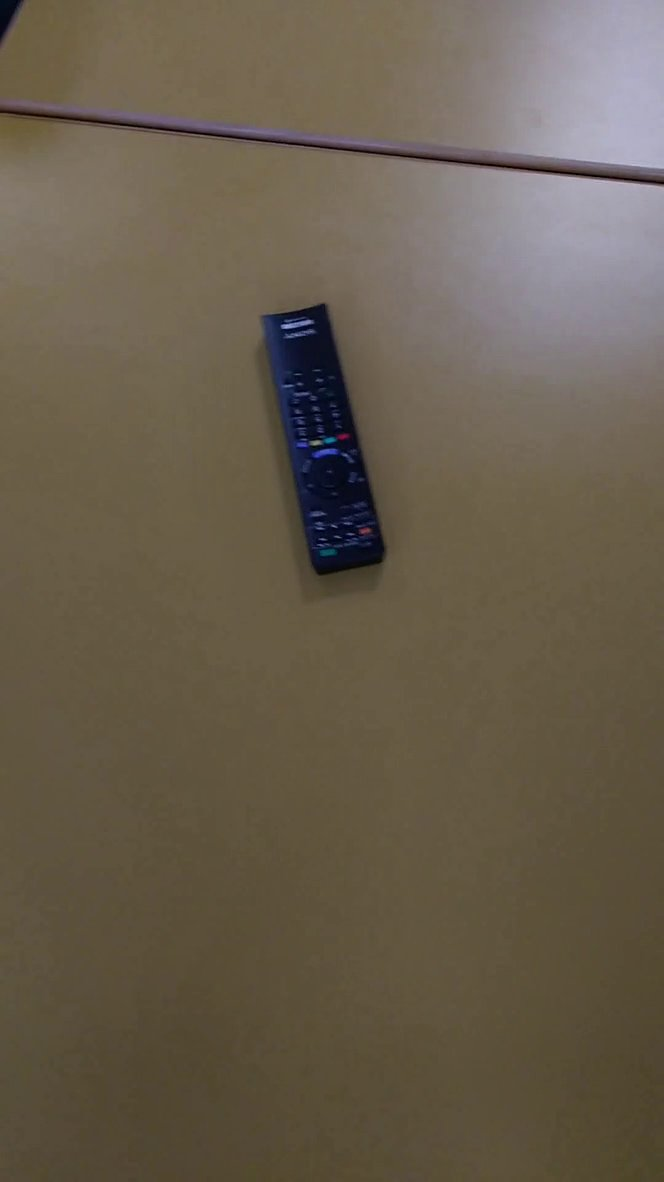remote: (247, 287, 407, 586)
